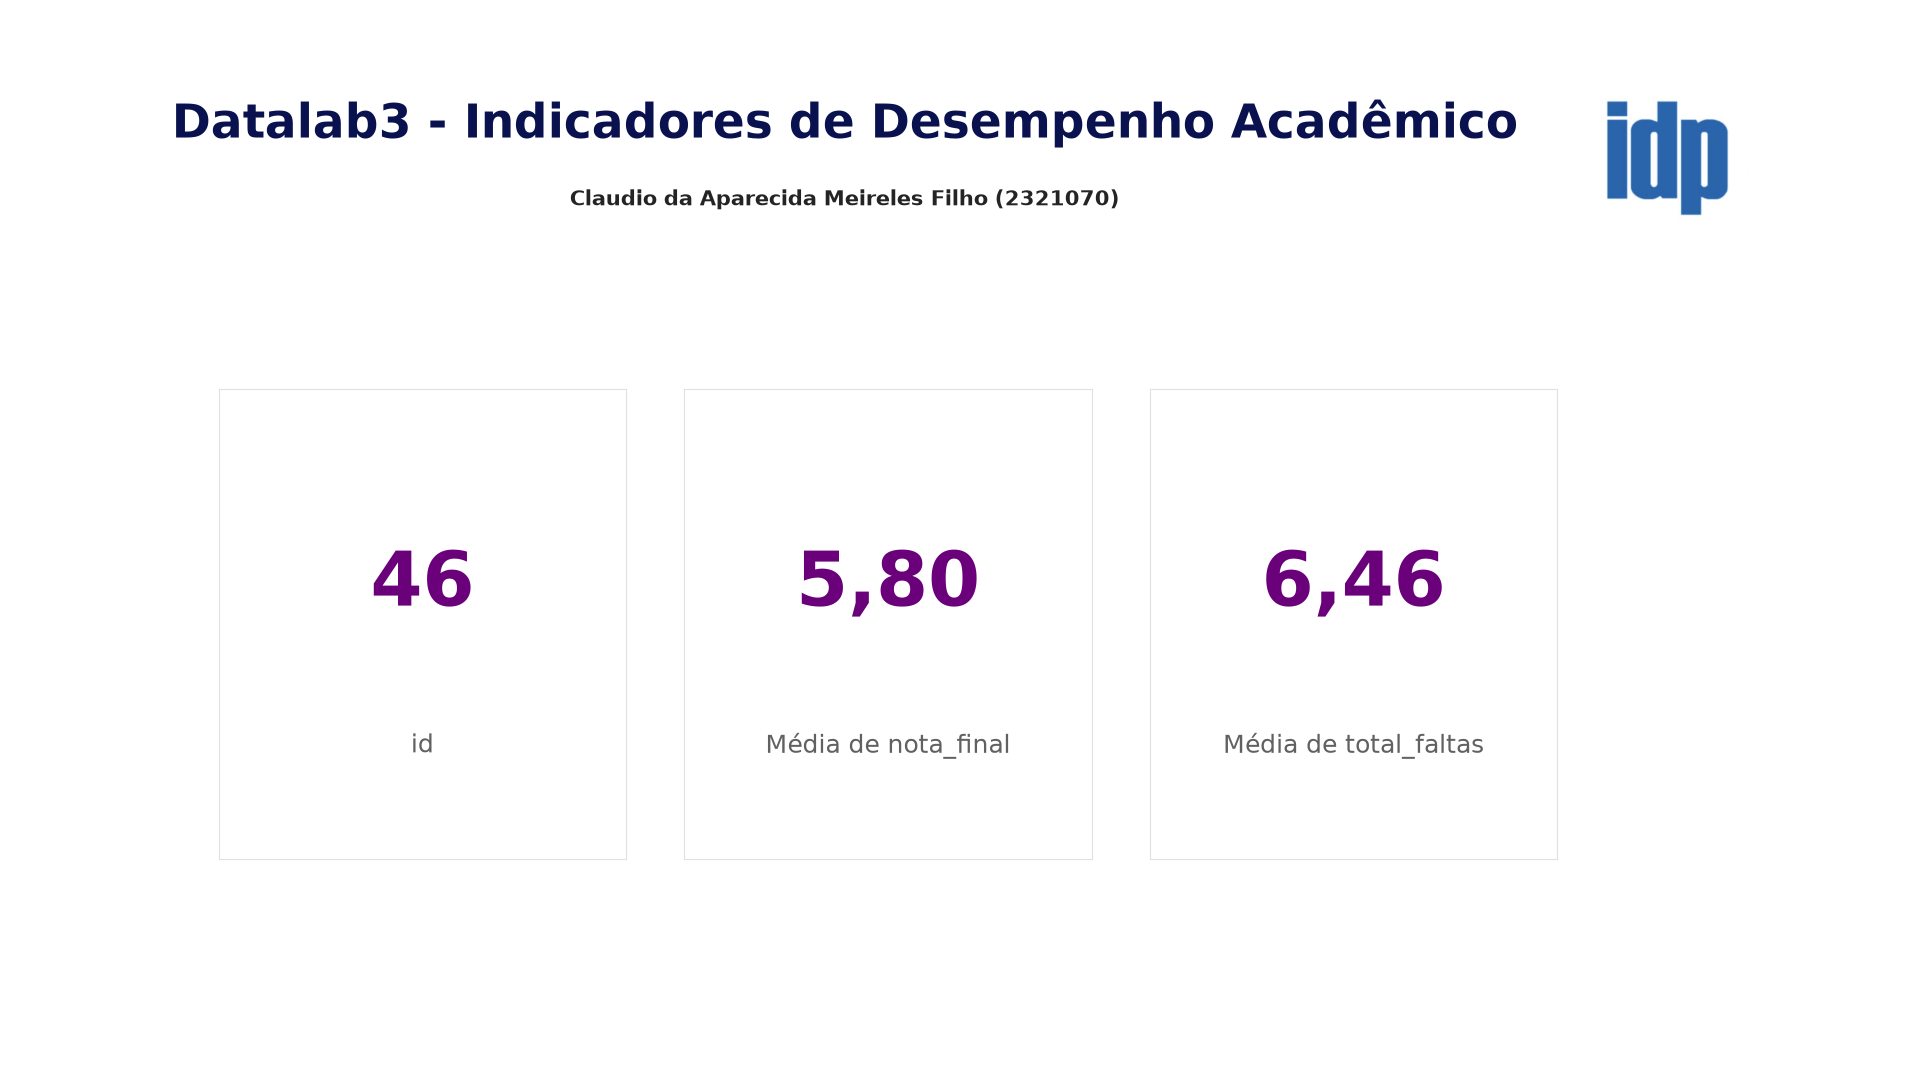

Layout of this report page (visuals, bound fields, positions):
{"tool":"powerbi","page":{"name":"P1-Indicadores","canvas":[1920,1080],"ordinal":0},"visuals":[{"type":"cardVisual","title":"Número de Alunos","fields":{"Data":["CountNonNull(dados.id)"]},"box":[218.6,287.3,407.5,284],"z":0},{"type":"cardVisual","title":"Média da Turma","fields":{"Data":["Avg(dados.nota_final)"]},"box":[696.1,287.3,407.5,282],"z":1000},{"type":"cardVisual","title":"Média de Faltas","fields":{"Data":["Avg(dados.total_faltas)"]},"box":[1163.4,287.3,407.5,282],"z":1001},{"type":"textbox","box":[218.2,107,1385.3,144.1],"z":1002},{"type":"image","box":[1583.5,86.9,168.3,139.3],"z":1003},{"type":"textbox","box":[274,180,1278,52],"z":1004}]}

Visuals, with their boxes in screenshot pixels (x1, y1, x2, y2), scaled from the page's 1920x1080 canvas onto the 1920x1080 screenshot:
"Número de Alunos" cardVisual: [left=219, top=287, right=626, bottom=571]
"Média da Turma" cardVisual: [left=696, top=287, right=1104, bottom=569]
"Média de Faltas" cardVisual: [left=1163, top=287, right=1571, bottom=569]
textbox: [left=218, top=107, right=1604, bottom=251]
image: [left=1584, top=87, right=1752, bottom=226]
textbox: [left=274, top=180, right=1552, bottom=232]
